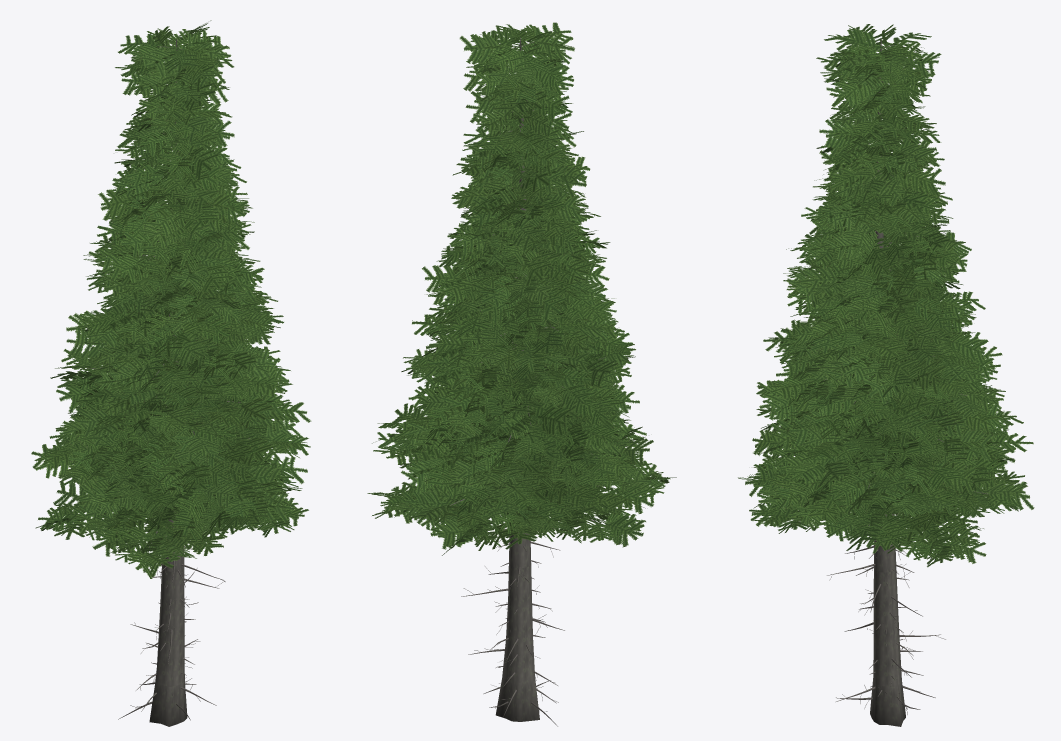
File: jedle_stara.glb
The picture shows the model from 3 angles, left to right: view 1: azimuth 30°, elevation 25°; view 2: azimuth 150°, elevation 25°; view 3: azimuth 270°, elevation 25°; orthographic projection.
Visible parts, largest first — view 1: jedle_stara; view 2: jedle_stara; view 3: jedle_stara.
Part boxes in pixels (x1=…): jedle_stara: x1=31, y1=20, x2=311, y2=726; jedle_stara: x1=367, y1=22, x2=676, y2=726; jedle_stara: x1=738, y1=24, x2=1034, y2=726.
Bounding box in the file's own units: 11.51 × 27.4 × 11.79.
2 materials, 2 textured.
